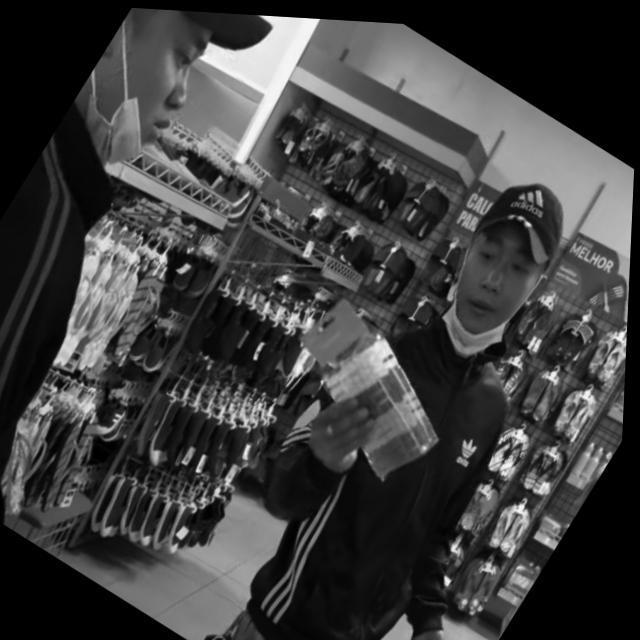hairnet: (71, 3, 225, 186), (426, 219, 552, 366)
